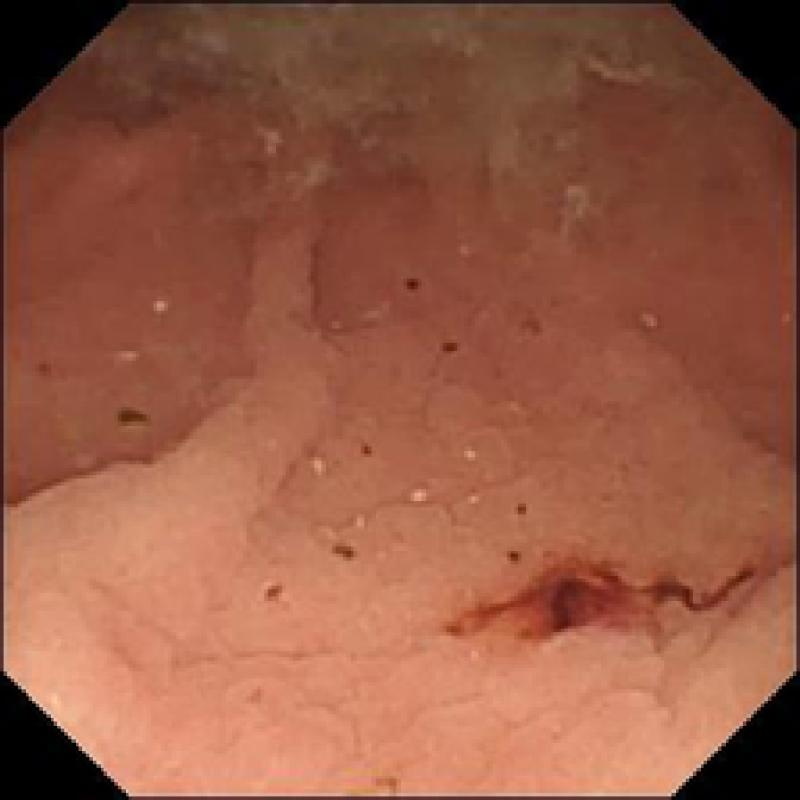bleeding: (454, 546, 786, 650)
